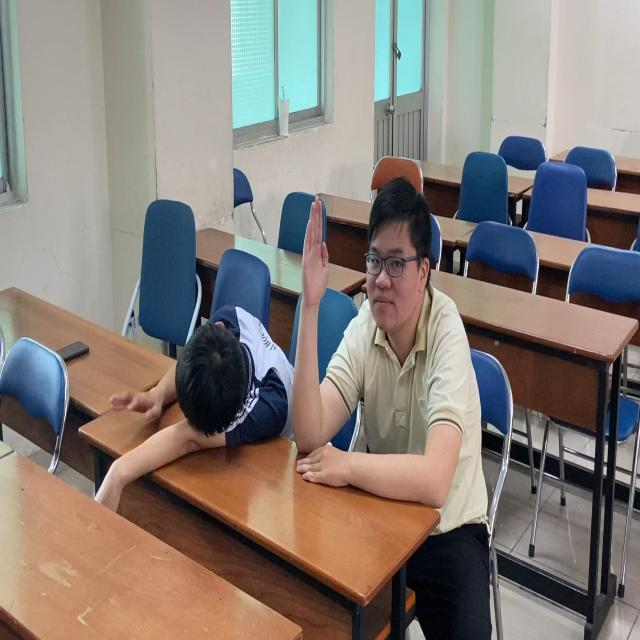raise_hand: (291, 173, 500, 529)
sleep: (131, 286, 295, 459)
